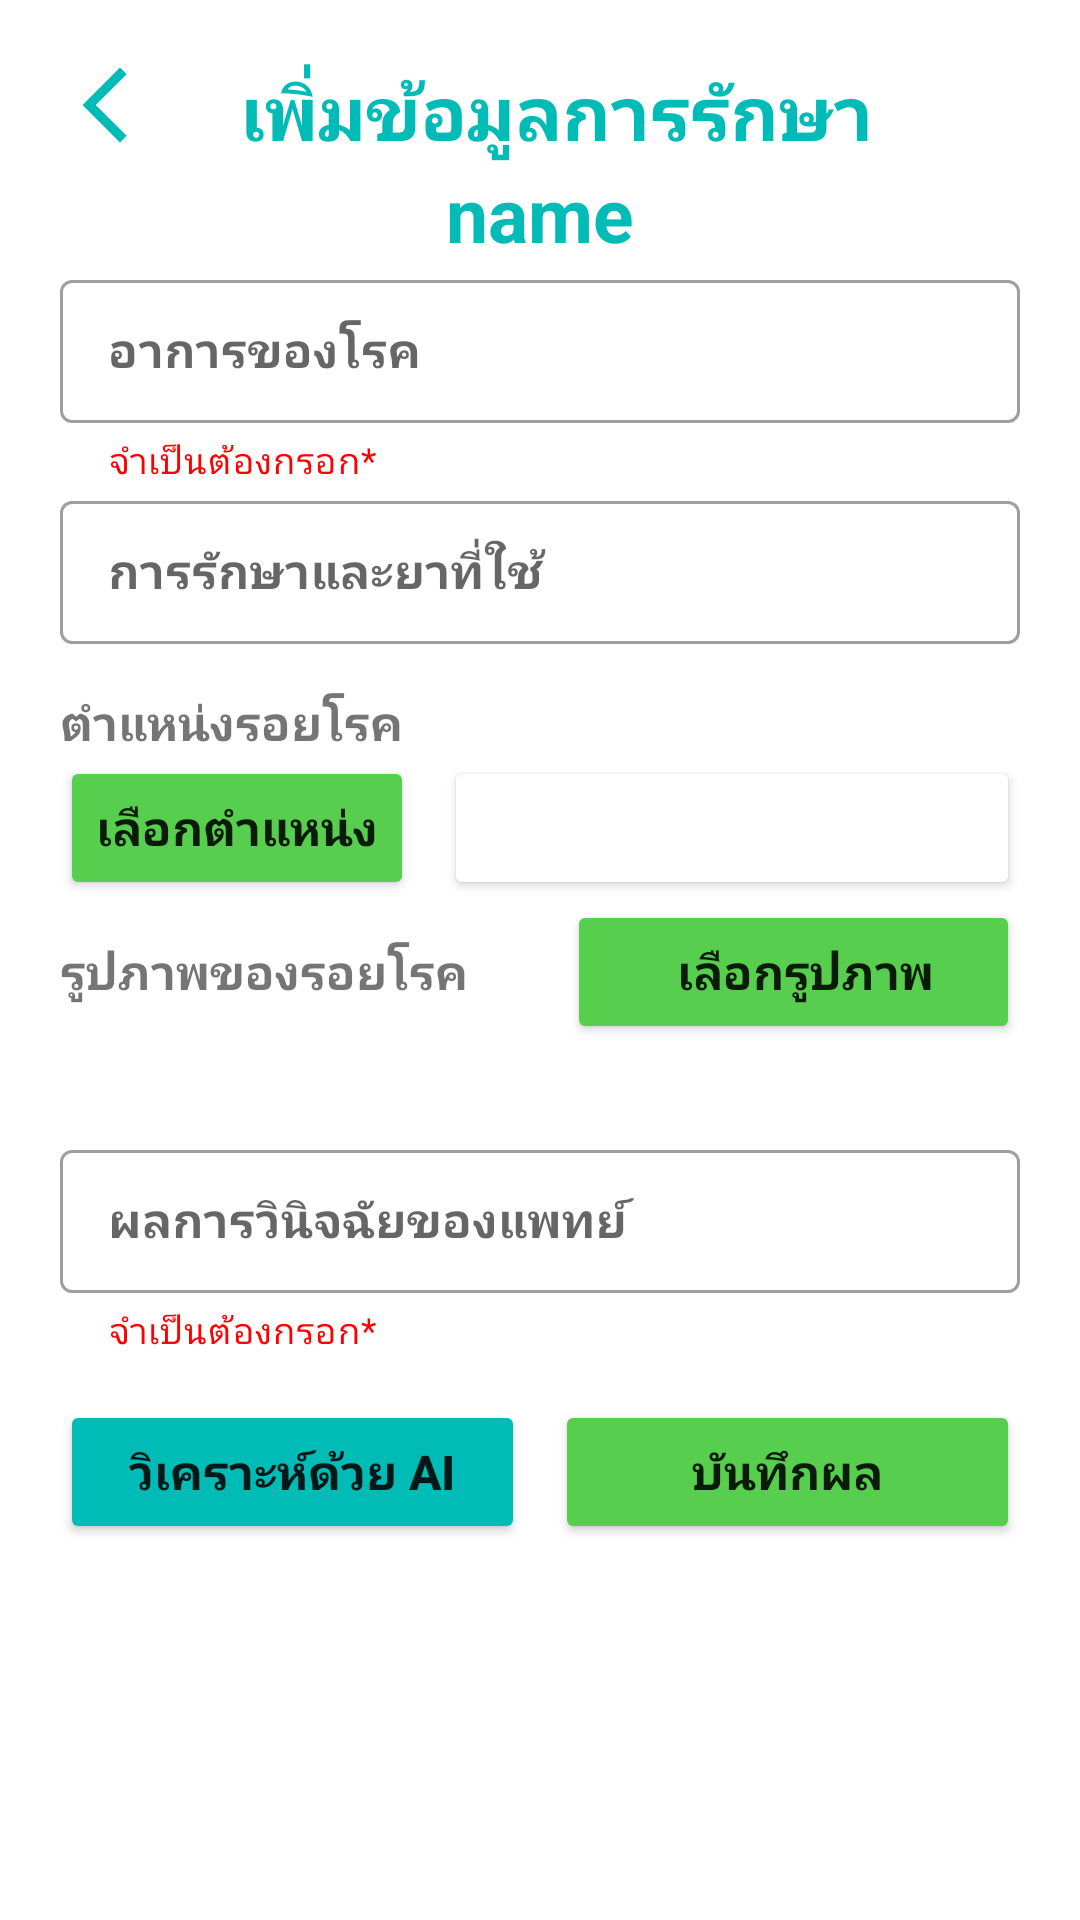

Icon bounding boxes for this 1080 × 1920 phone screenshot, format (x1, y1, x2, y2):
arrow back: (82, 67, 127, 143)
